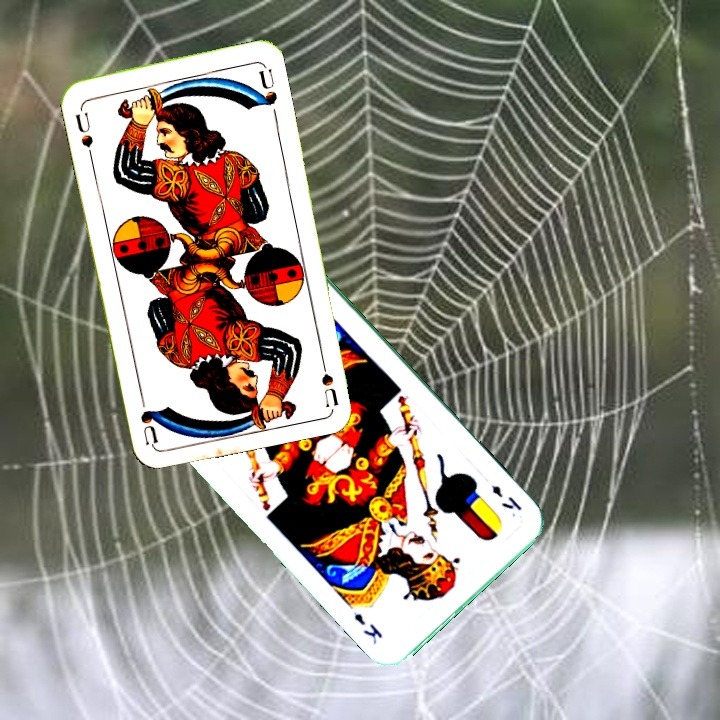EK: (487, 481, 525, 514)
SU: (71, 102, 96, 160), (316, 348, 340, 407)
